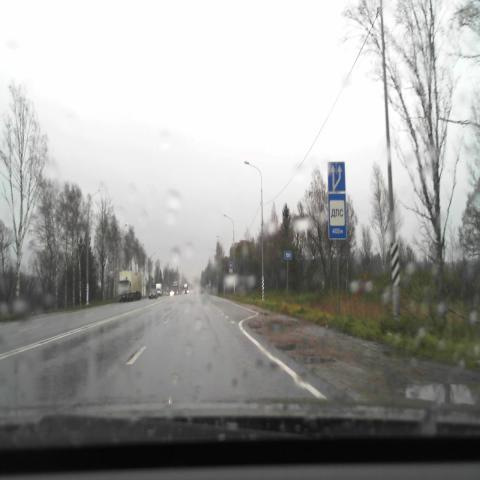7_12: (328, 193, 346, 239)
